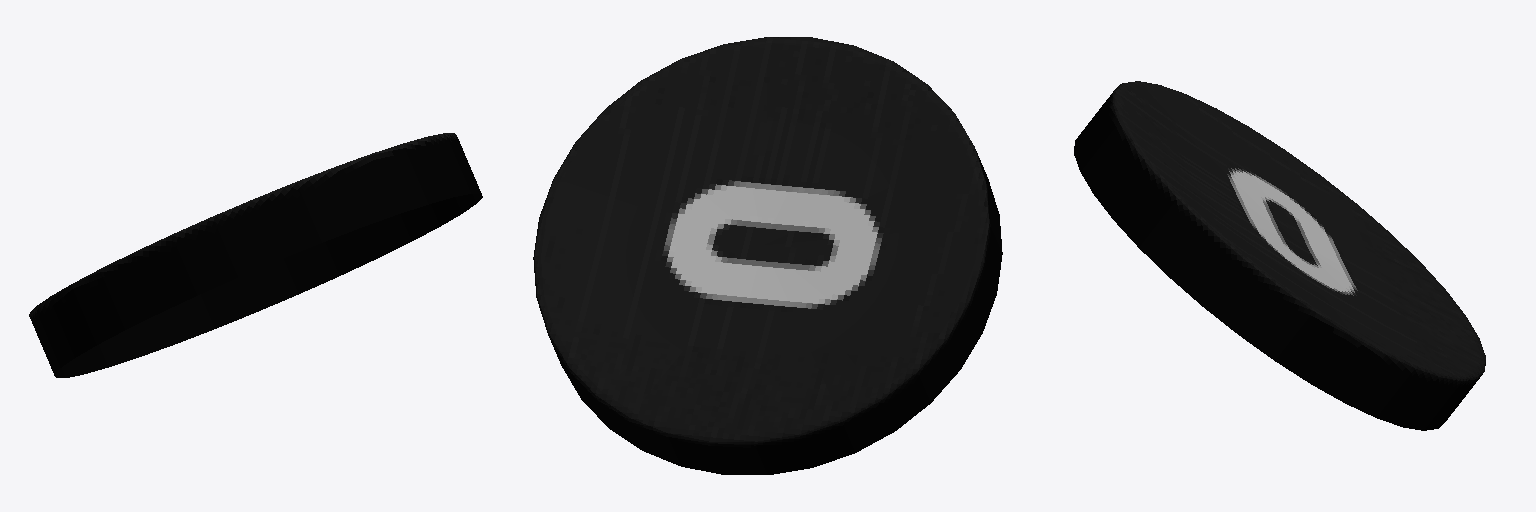
3 renders of one model, left to right at view 1: azimuth 30°, elevation 25°; view 2: azimuth 150°, elevation 25°; view 3: azimuth 270°, elevation 25°, orthographic.
Parts seen in each view (by area): view 1: oculus_quest2_controller_right_button_menu; view 2: oculus_quest2_controller_right_button_menu; view 3: oculus_quest2_controller_right_button_menu.
Part boxes in pixels (x1,y1,x2,y2): oculus_quest2_controller_right_button_menu: (29, 133, 482, 377); oculus_quest2_controller_right_button_menu: (533, 37, 1002, 474); oculus_quest2_controller_right_button_menu: (1074, 81, 1485, 430).
Bounding box in the file's own units: 0.0091 × 0.0065 × 0.008.
1 materials, 1 textured.